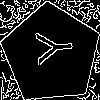Y: (26, 28, 74, 66)
